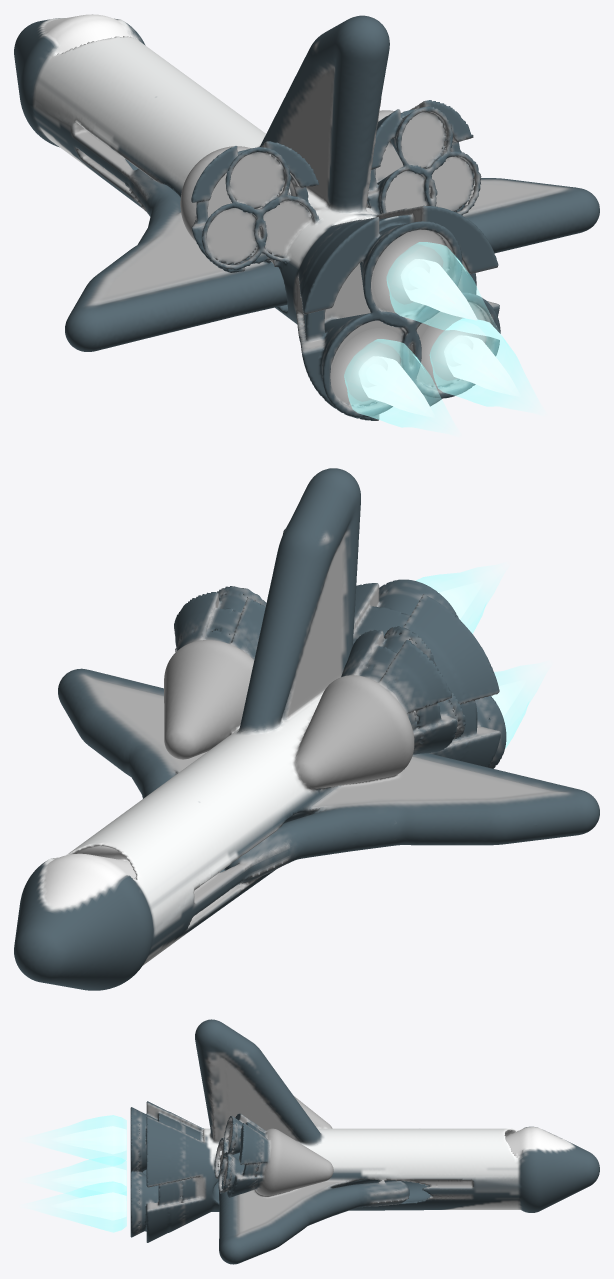
The model's file is spacecraft_rigged_animated.glb.
3 views of the same model, one above another, from view 1: azimuth 30°, elevation 25°; view 2: azimuth 150°, elevation 25°; view 3: azimuth 270°, elevation 25° (orthographic). The views are drawn at different scales.
Visible parts, largest first — view 1: Hull_Original_Textured, Ventral_Outer_Blue_Flame, Starboard_Outer_Blue_Flame, Port_Outer_Blue_Flame, Port_Inner_Cyan_Flame, Starboard_Inner_Cyan_Flame, Ventral_Inner_Cyan_Flame, Starboard_Engine_Nozzle_Glow, Ventral_Engine_Nozzle_Glow, Port_Engine_Nozzle_Glow, Starboard_White_Core, Ventral_White_Core (+1 smaller); view 2: Hull_Original_Textured, Ventral_Outer_Blue_Flame, Starboard_Outer_Blue_Flame, Ventral_Inner_Cyan_Flame; view 3: Hull_Original_Textured, Port_Outer_Blue_Flame, Ventral_Outer_Blue_Flame, Starboard_Outer_Blue_Flame, Ventral_Inner_Cyan_Flame, Port_Inner_Cyan_Flame, Starboard_Inner_Cyan_Flame.
Part boxes in pixels (<box>): Hull_Original_Textured: <box>14,14,599,420</box>; Ventral_Outer_Blue_Flame: <box>386,242,498,336</box>; Starboard_Outer_Blue_Flame: <box>344,339,456,434</box>; Port_Outer_Blue_Flame: <box>429,318,541,413</box>; Port_Inner_Cyan_Flame: <box>444,335,518,395</box>; Starboard_Inner_Cyan_Flame: <box>358,356,433,416</box>; Ventral_Inner_Cyan_Flame: <box>401,259,475,319</box>; Starboard_Engine_Nozzle_Glow: <box>337,334,400,401</box>; Ventral_Engine_Nozzle_Glow: <box>379,237,442,304</box>; Port_Engine_Nozzle_Glow: <box>423,318,485,380</box>; Starboard_White_Core: <box>367,365,408,397</box>; Ventral_White_Core: <box>409,267,450,300</box>; Hull_Original_Textured: <box>14,468,599,990</box>; Ventral_Outer_Blue_Flame: <box>416,564,504,633</box>; Starboard_Outer_Blue_Flame: <box>491,663,547,748</box>; Ventral_Inner_Cyan_Flame: <box>439,582,481,619</box>; Hull_Original_Textured: <box>130,1019,599,1264</box>; Port_Outer_Blue_Flame: <box>28,1181,126,1232</box>; Ventral_Outer_Blue_Flame: <box>28,1115,126,1166</box>; Starboard_Outer_Blue_Flame: <box>28,1156,126,1197</box>; Ventral_Inner_Cyan_Flame: <box>54,1126,126,1153</box>; Port_Inner_Cyan_Flame: <box>54,1192,126,1220</box>; Starboard_Inner_Cyan_Flame: <box>54,1167,126,1192</box>.
Bounding box in the file's own units: 15.42 × 9.9 × 24.1.
Materials: 5 (1 with a texture image).
